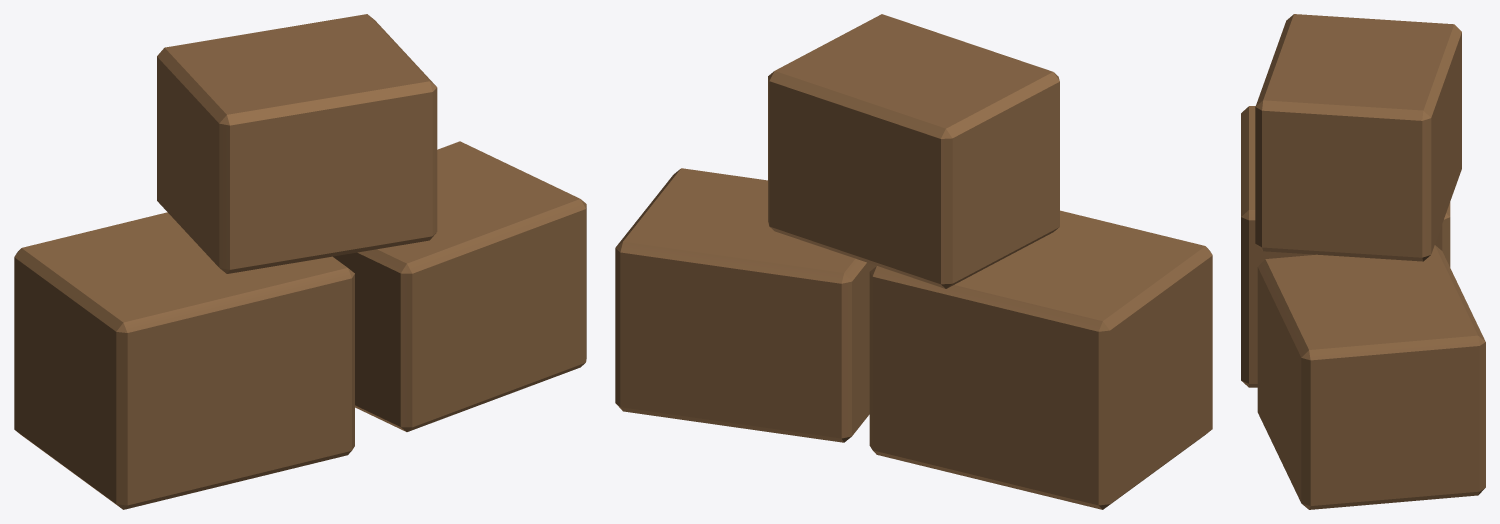
The model's file is prop_crates.glb.
3 views of the same model, side by side, from view 1: azimuth 30°, elevation 25°; view 2: azimuth 150°, elevation 25°; view 3: azimuth 270°, elevation 25° (orthographic). The views are drawn at different scales.
Visible parts, largest first — view 1: crates_timber; view 2: crates_timber; view 3: crates_timber.
Boxes of the visible parts, x1=… form: crates_timber: x1=14, y1=14, x2=586, y2=509; crates_timber: x1=615, y1=14, x2=1212, y2=509; crates_timber: x1=1241, y1=14, x2=1485, y2=509.
Bounding box in the file's own units: 2.11 × 1.39 × 0.9363.
